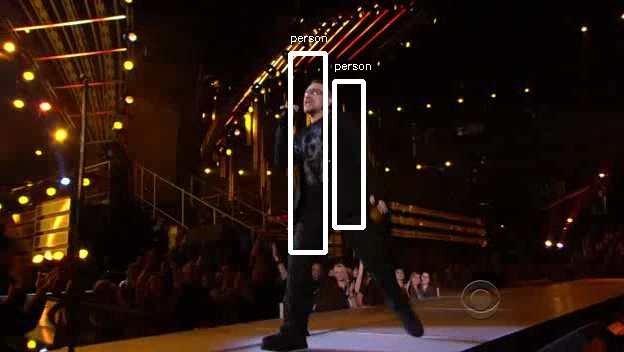person: (282, 80, 374, 246), (279, 80, 371, 246), (285, 80, 377, 246), (282, 77, 374, 243), (282, 83, 374, 249)
target_negative: (232, 300, 569, 335), (75, 105, 249, 166), (311, 60, 339, 324), (163, 259, 368, 271), (494, 344, 604, 350)
